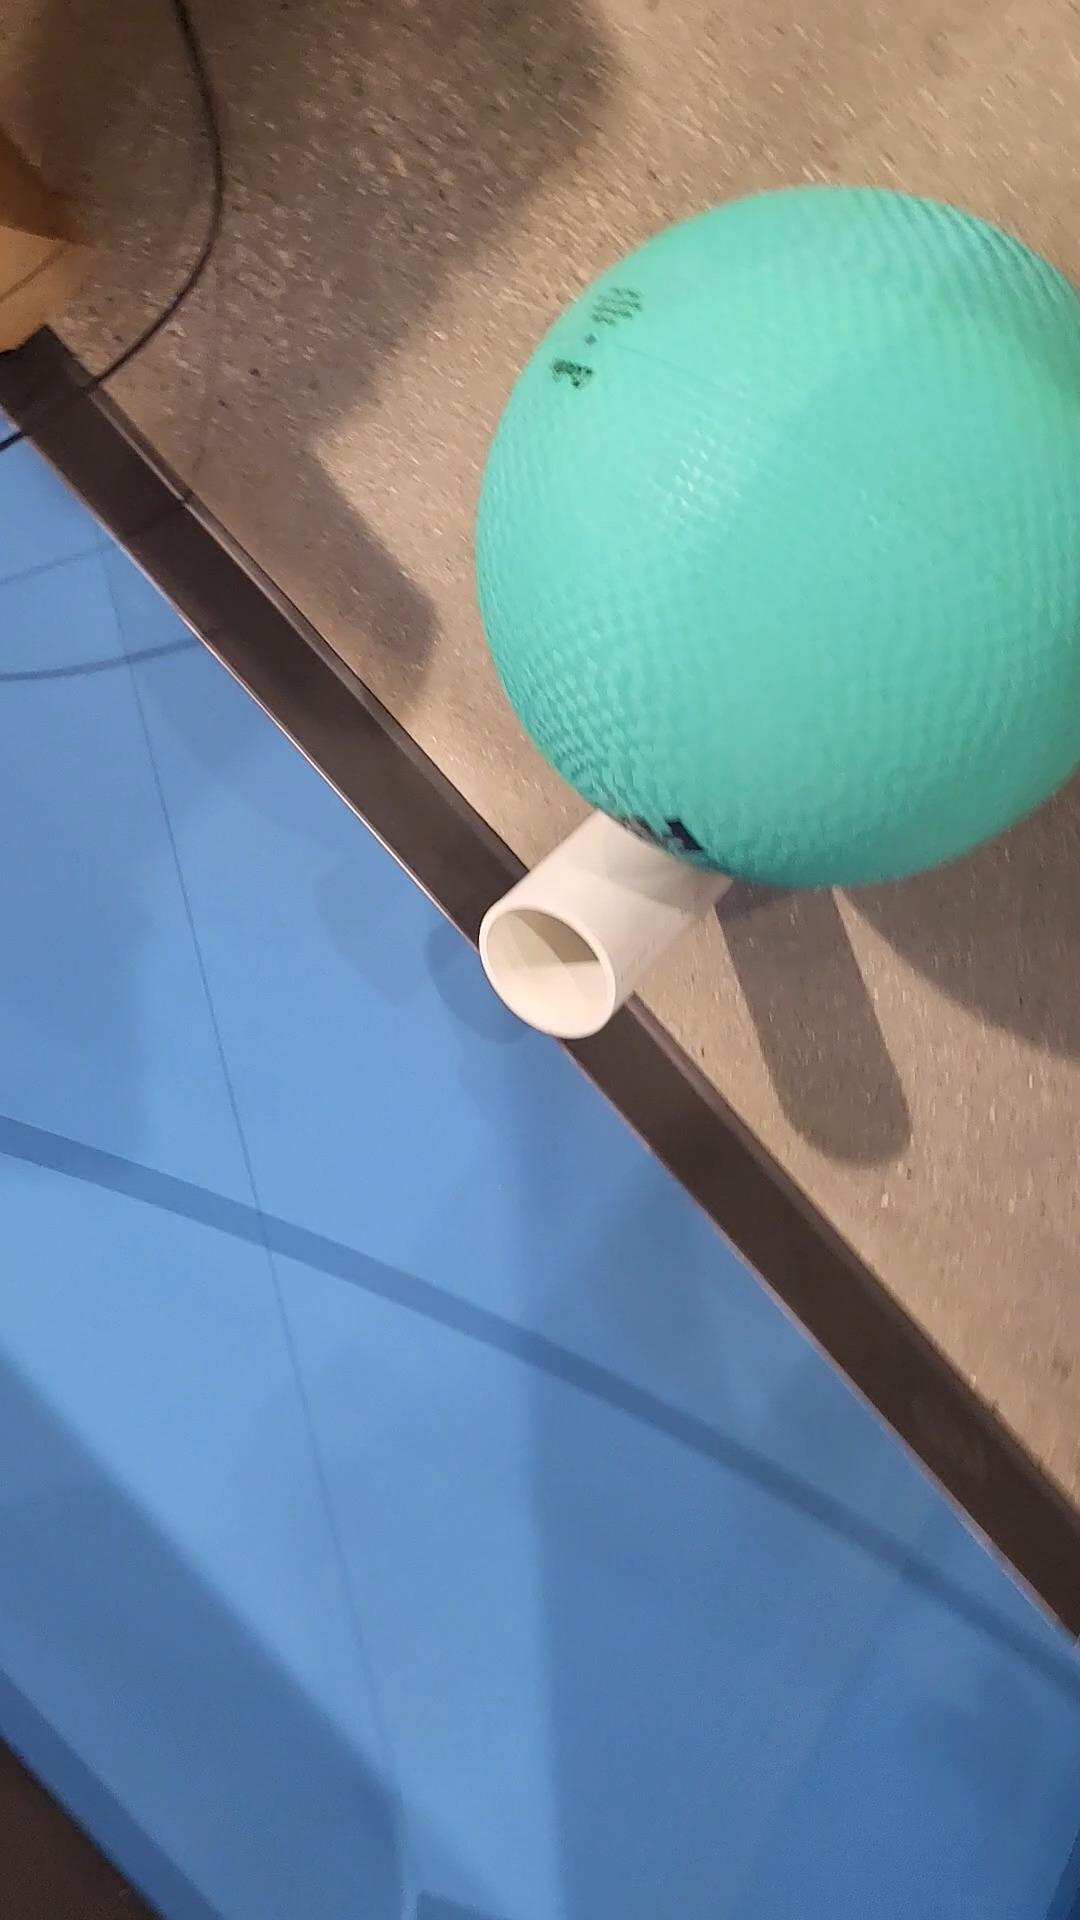algae: (475, 179, 1080, 882)
coral: (483, 803, 745, 1040)
